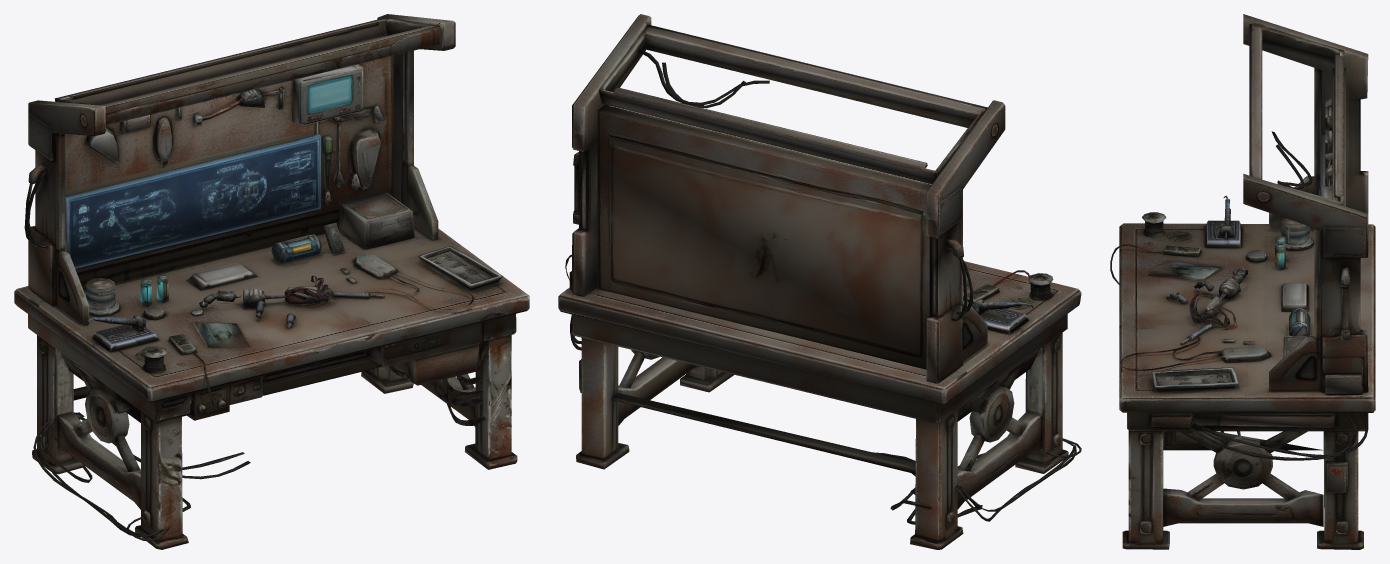
The model's file is 019eb044-eca2-7fd5-9098-adb5f3628be7.glb.
The picture shows the model from 3 angles, left to right: view 1: azimuth 30°, elevation 25°; view 2: azimuth 150°, elevation 25°; view 3: azimuth 270°, elevation 25°; orthographic projection. The views are drawn at different scales.
Visible parts, largest first — view 1: tripo_node_5fee56d4-19e0-4221-8c54-af913a00464f; view 2: tripo_node_5fee56d4-19e0-4221-8c54-af913a00464f; view 3: tripo_node_5fee56d4-19e0-4221-8c54-af913a00464f.
Boxes of the visible parts, x1,y1,x2,y2 form: tripo_node_5fee56d4-19e0-4221-8c54-af913a00464f: (14,14,529,549); tripo_node_5fee56d4-19e0-4221-8c54-af913a00464f: (558,14,1081,549); tripo_node_5fee56d4-19e0-4221-8c54-af913a00464f: (1110,14,1375,549).
Bounding box in the file's own units: 0.998 × 0.9785 × 0.627.
1 material, 1 textured.
